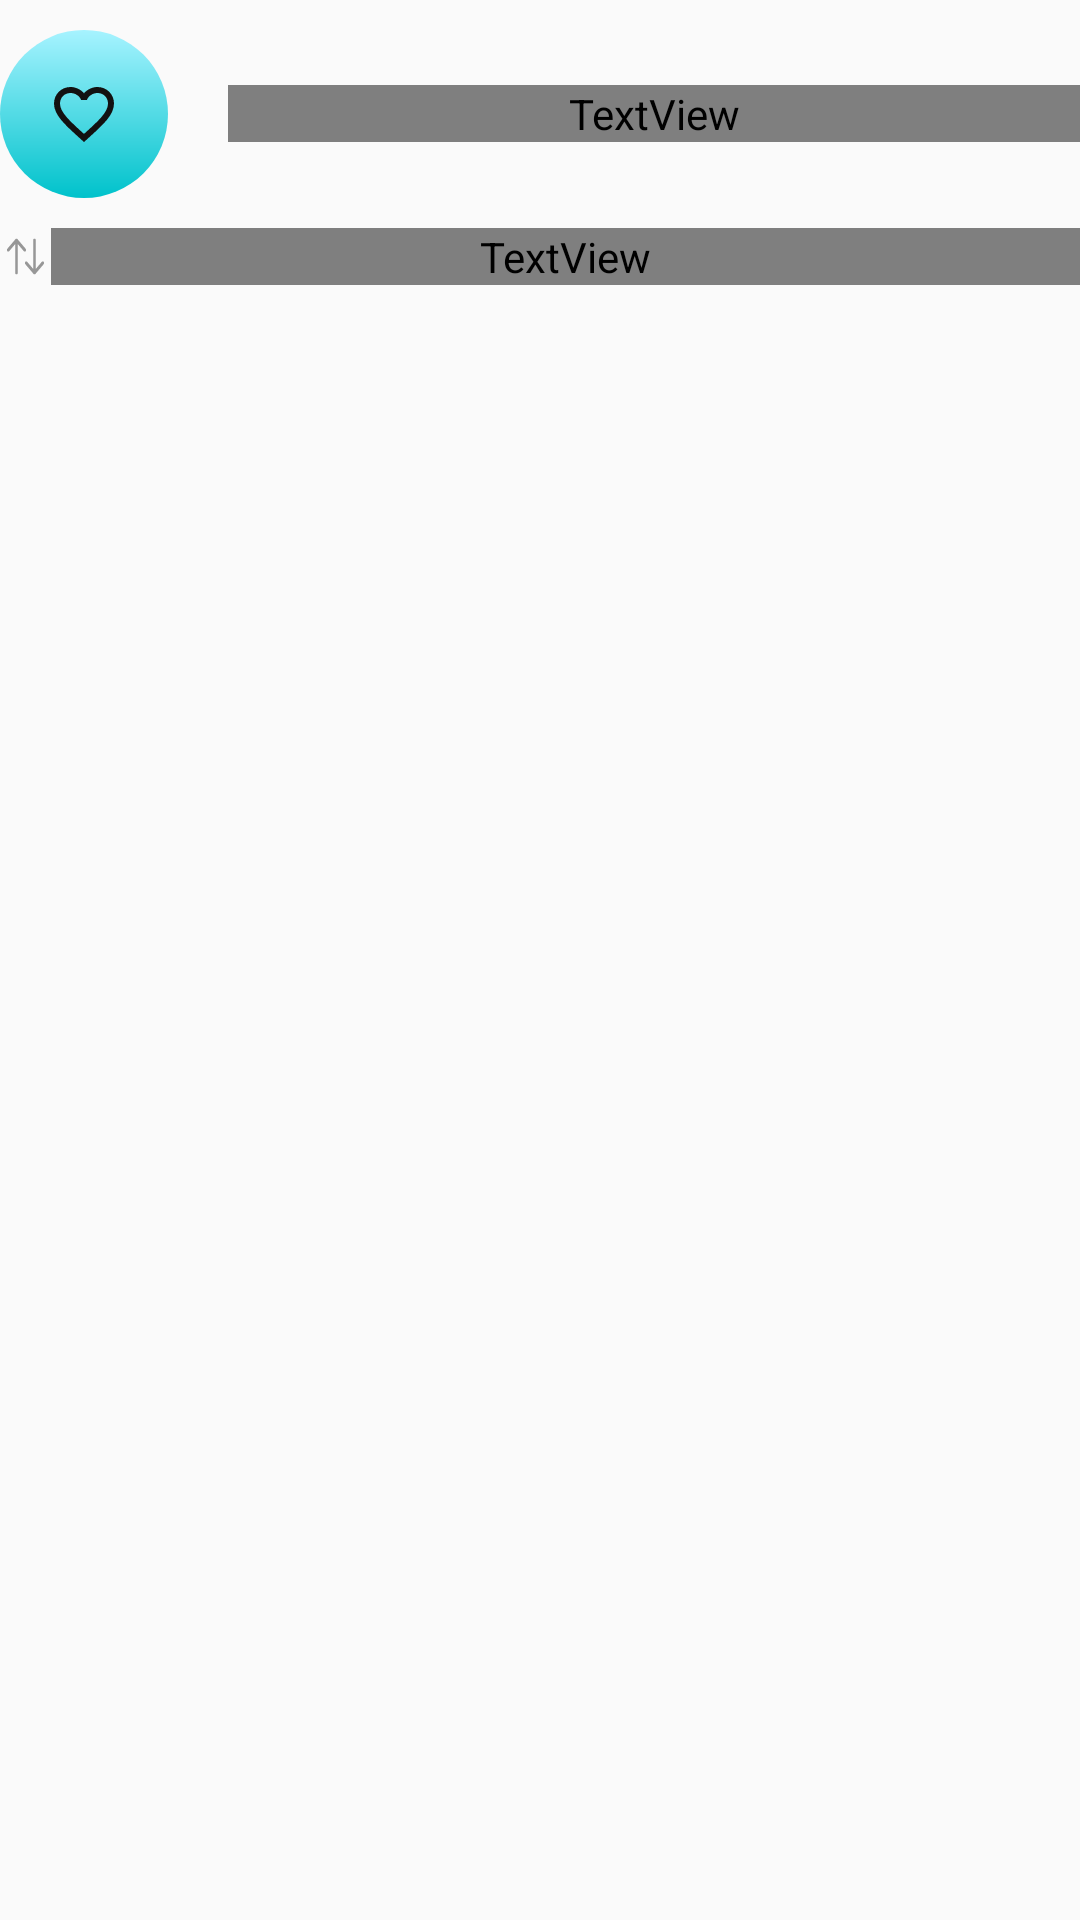

Icon click points for this 1080px x 1920px phone screenshot, format (x=x, y=y):
favor: (x=84, y=114)
sort: (x=25, y=256)
